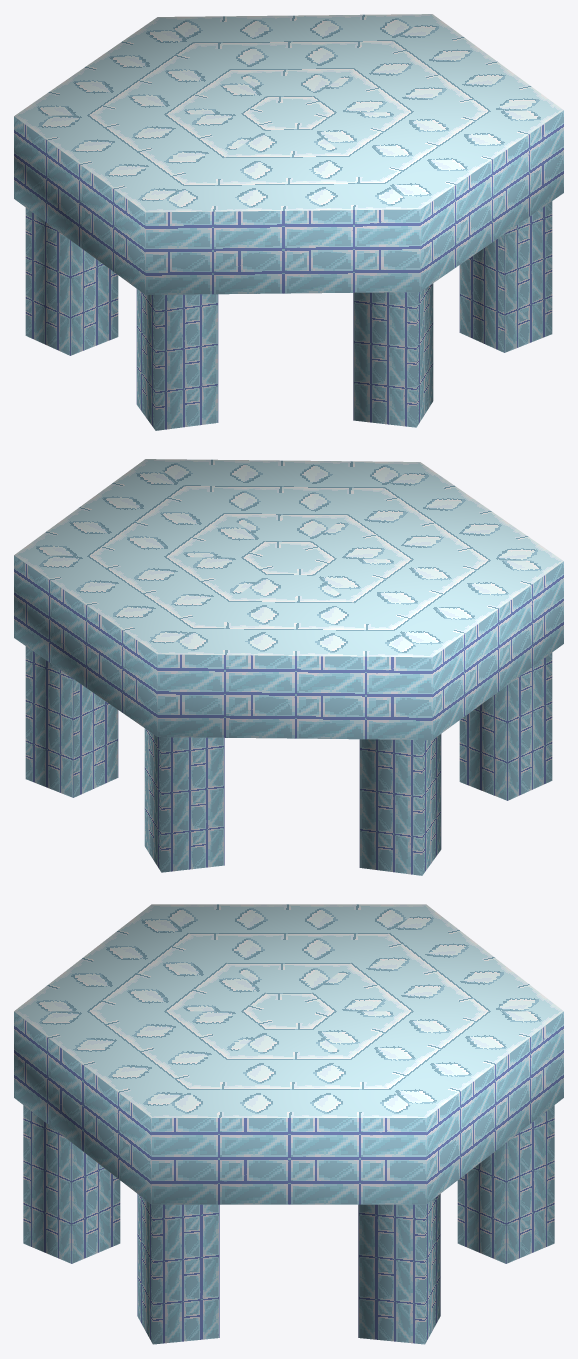
Rendered from 3154IMFY03_06.gltf.
The picture shows the model from 3 angles, top to bottom: view 1: azimuth 30°, elevation 25°; view 2: azimuth 150°, elevation 25°; view 3: azimuth 270°, elevation 25°; orthographic projection. The views are drawn at different scales.
Visible parts, largest first — view 1: 3154IMFY03_06; view 2: 3154IMFY03_06; view 3: 3154IMFY03_06.
Part boxes in pixels (x1,y1,x2,y2): 3154IMFY03_06: (14,14,563,430); 3154IMFY03_06: (14,459,563,875); 3154IMFY03_06: (14,904,563,1344).
Bounding box in the file's own units: 0.8691 × 0.4399 × 0.9453.
Materials: 2 (2 with a texture image).
